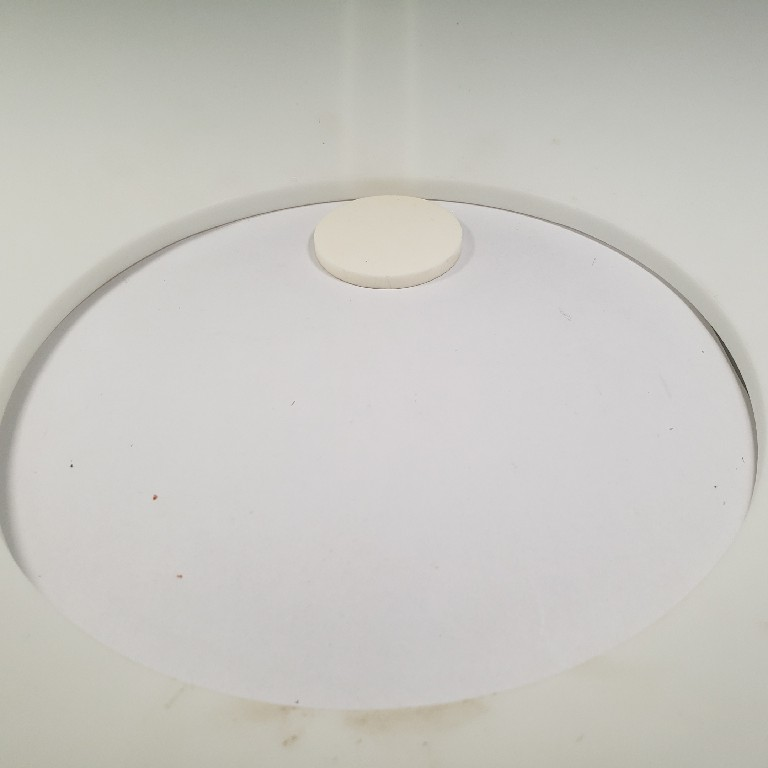ceramics: (301, 189, 476, 296)
